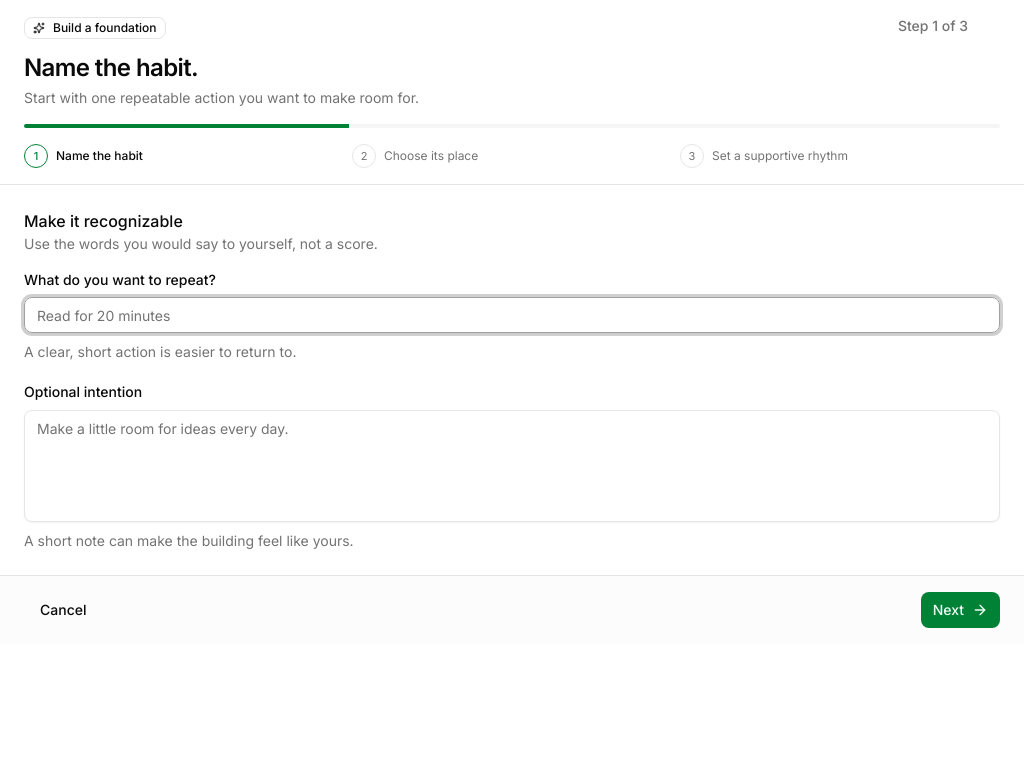
HabitWizard › blocks the next step until the habit name is valid
Click the button "Next".
click(960, 610)  # box top-left (921, 592), bottom-right (1000, 628)
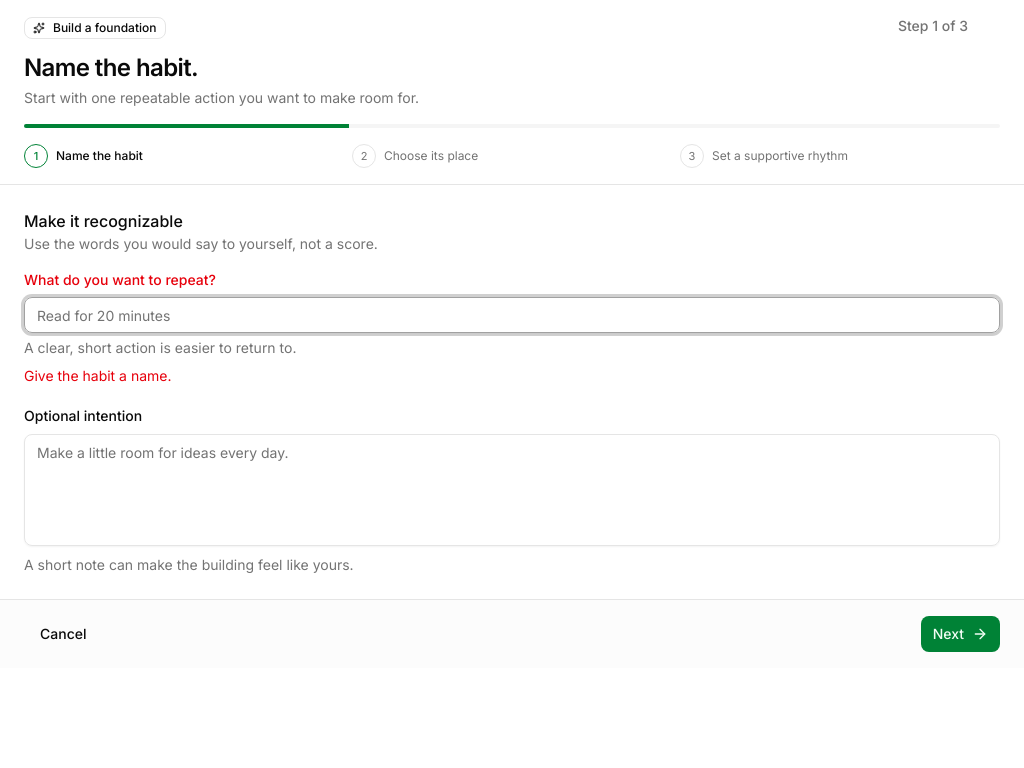
Check: the text "Step 1 of 3" is shown, box top-left (898, 16), bottom-right (968, 36)
Check: the text "Give the habit a name." is shown, box top-left (24, 367), bottom-right (172, 384)
